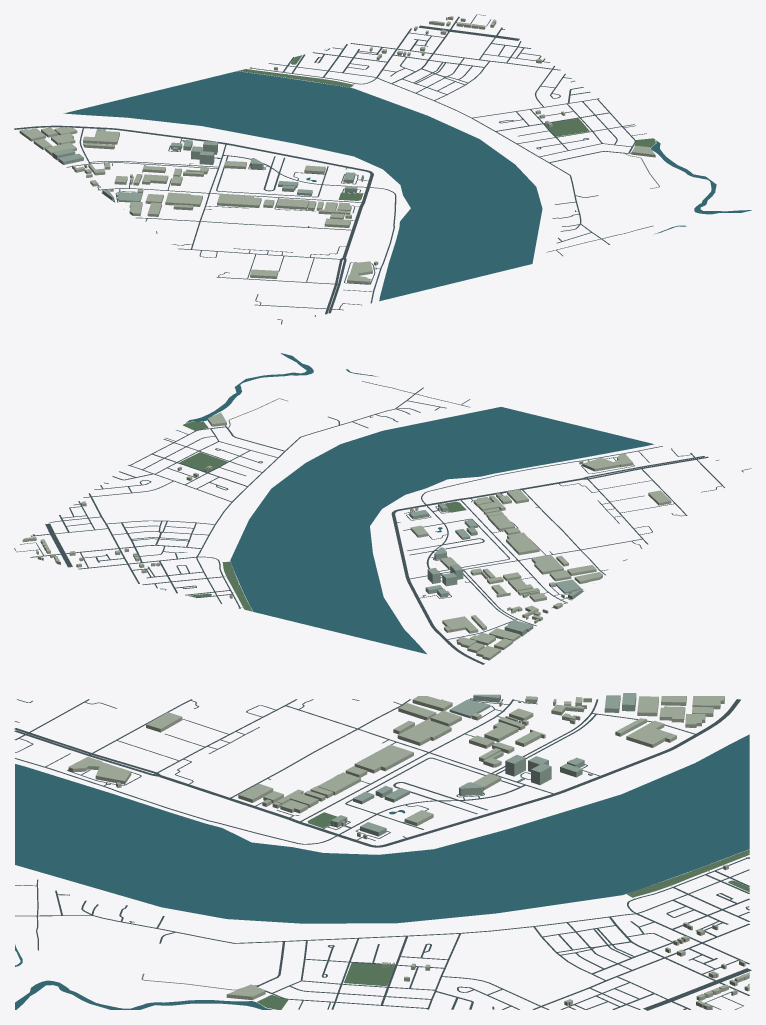
3 views of the same model, one above another, from view 1: azimuth 30°, elevation 25°; view 2: azimuth 150°, elevation 25°; view 3: azimuth 270°, elevation 25° (orthographic). The views are drawn at different scales.
Parts seen in each view (by area): view 1: water, street, building, building-tagged, green; view 2: water, street, building, building-tagged, green; view 3: water, street, building, building-tagged, green.
Boxes of the visible parts, x1,y1,x2,y2 form: water: (63, 71, 751, 301); street: (14, 14, 653, 324); building: (19, 16, 655, 284); building-tagged: (52, 140, 357, 202); green: (238, 55, 655, 200); water: (186, 353, 653, 654); street: (14, 381, 751, 664); building: (22, 412, 671, 660); building-tagged: (409, 503, 583, 636); green: (179, 421, 466, 611); water: (15, 734, 749, 1009); street: (14, 699, 751, 1010); building: (68, 696, 749, 1009); building-tagged: (330, 693, 636, 836); green: (257, 812, 749, 1009).
Bounding box in the file's own units: 2009 × 38.6 × 2010.
